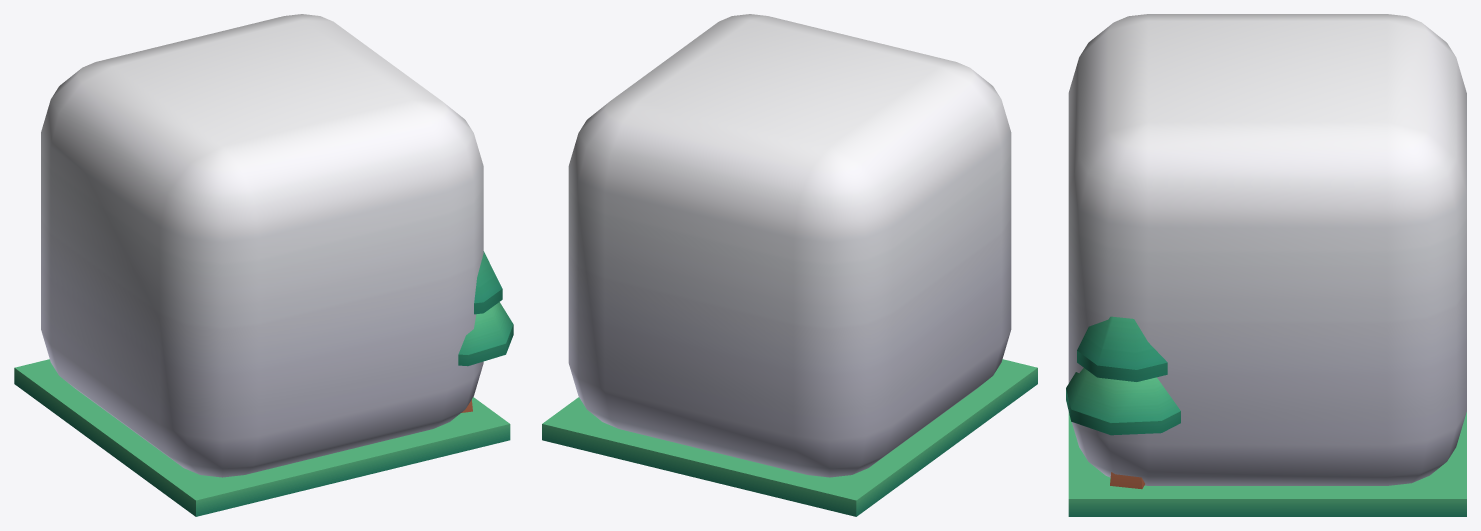
Rendered from nature.glb.
The picture shows the model from 3 angles, left to right: view 1: azimuth 30°, elevation 25°; view 2: azimuth 150°, elevation 25°; view 3: azimuth 270°, elevation 25°; orthographic projection. The views are drawn at different scales.
Visible parts, largest first — view 1: cloud, grass-trees, grass-trees-tall; view 2: cloud, grass-trees; view 3: cloud, grass-trees, grass-trees-tall.
Part boxes in pixels (<box>): cloud: <box>41,14,483,477</box>; grass-trees: <box>14,359,510,516</box>; grass-trees-tall: <box>458,251,513,412</box>; cloud: <box>568,14,1011,477</box>; grass-trees: <box>542,359,1037,516</box>; cloud: <box>1068,14,1466,485</box>; grass-trees: <box>1068,412,1466,516</box>; grass-trees-tall: <box>1066,316,1180,489</box>.
Bounding box in the file's own units: 1.07 × 1 × 1.01.
1 material, 1 textured.
